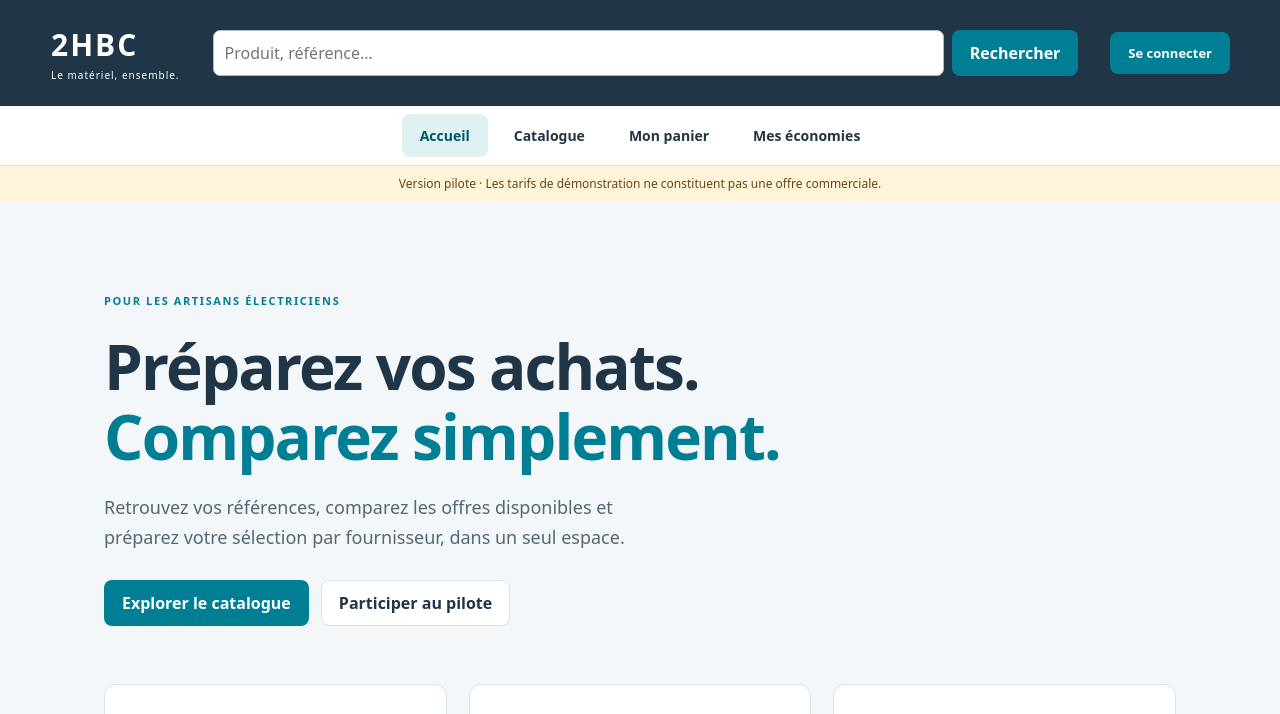
Scenario: Erreur réseau affichée avec réessai
The width and height of the screenshot is (1280, 714).
Click the button "Explorer le catalogue".
click(206, 603)  # box 104,580 -> 309,626
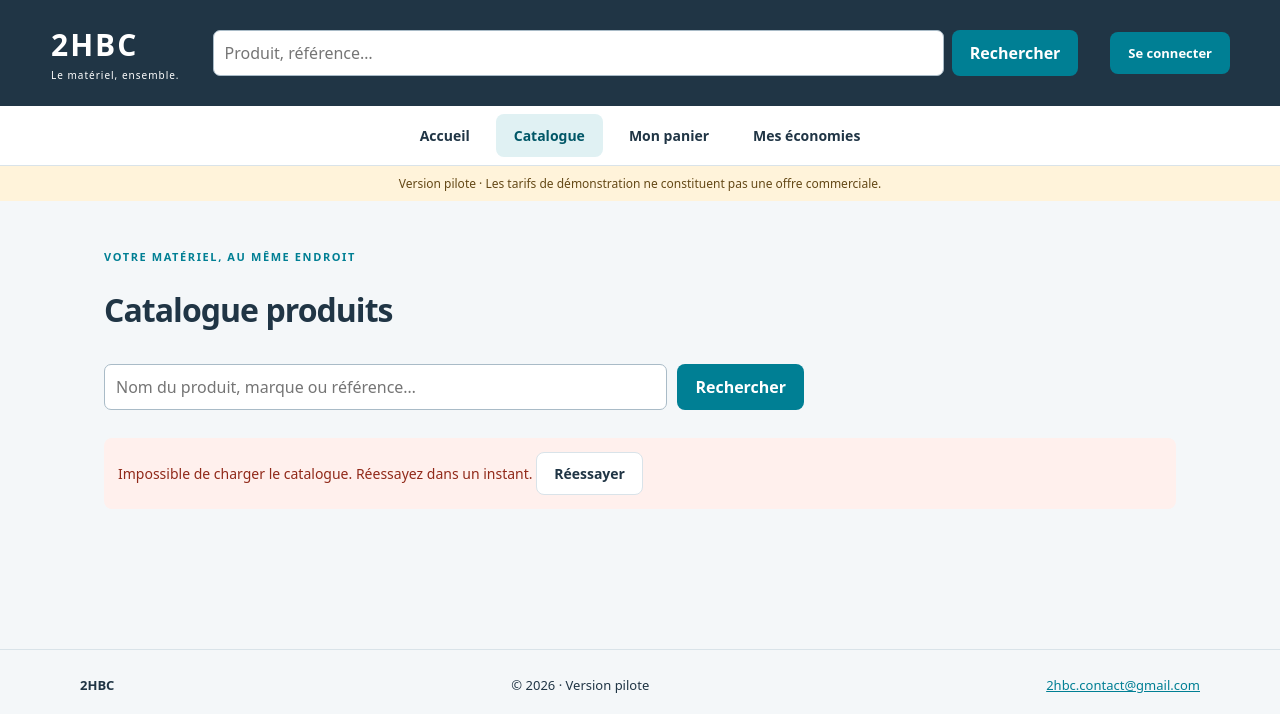
Expected: the message shows "Impossible de charger", 118,464 -> 532,483
Expected: the button "Réessayer" is shown, 536,452 -> 643,495
